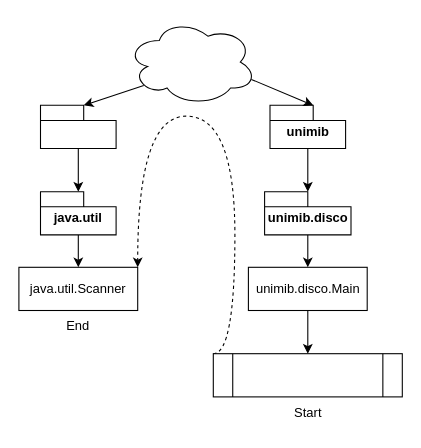
The diagram is 421 pixels wide and 448 high, and some of its shapes have lost their labels. The centre of each missing label's shape, as x and y in pixels:
java: pixel 77 126
ROOT: pixel 191 61
unimib.disco.Main.main: pixel 307 375
